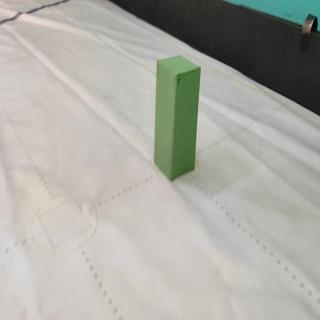greenbox: (152, 53, 203, 180)
